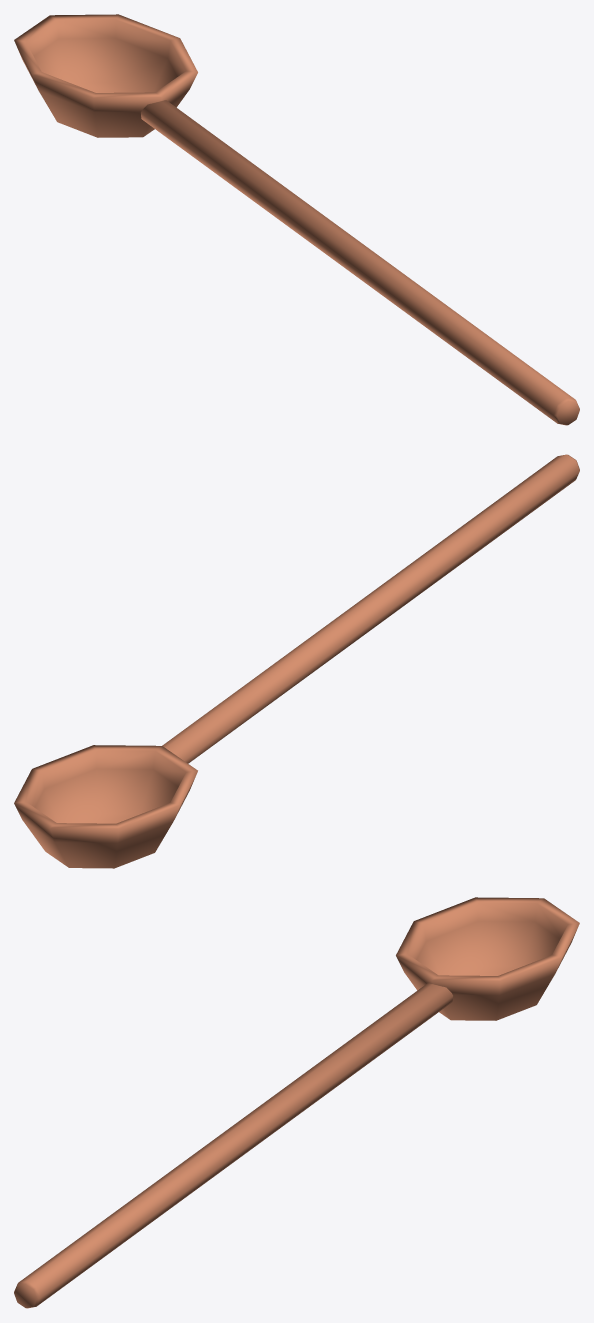
The model's file is cooking_assets_wooden_spoon.glb.
3 renders of one model, top to bottom at view 1: azimuth 30°, elevation 25°; view 2: azimuth 150°, elevation 25°; view 3: azimuth 330°, elevation 25°, orthographic.
Visible parts, largest first — view 1: misc_wooden_spoon_Cylinder.038; view 2: misc_wooden_spoon_Cylinder.038; view 3: misc_wooden_spoon_Cylinder.038.
Part boxes in pixels (<box>): misc_wooden_spoon_Cylinder.038: <box>14,14,579,425</box>; misc_wooden_spoon_Cylinder.038: <box>14,454,579,868</box>; misc_wooden_spoon_Cylinder.038: <box>14,897,579,1308</box>.
Size of the model in its own units: 0.9751 by 0.4007 by 5.91.
1 material, 1 textured.
